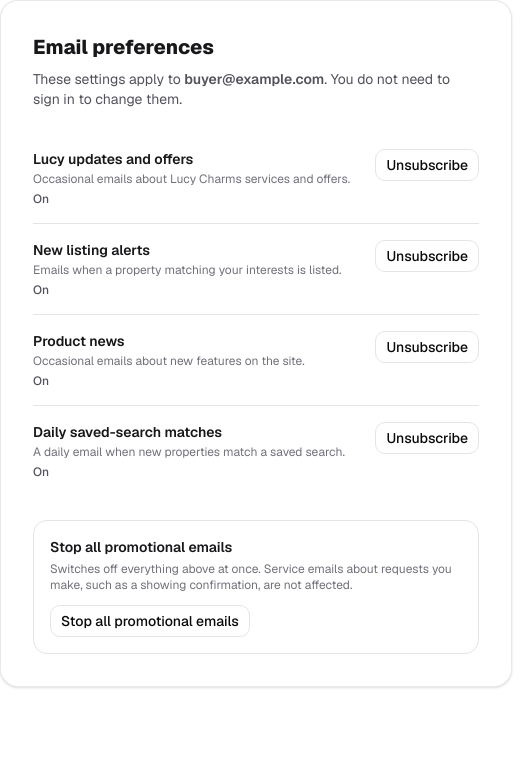
Test case: a failed change keeps the page usable and reports the error
Expected: the heading "Email preferences" is shown, left=33, top=34, right=214, bottom=60
Click the button "Unsubscribe" in the row of "Lucy updates and offers". click: (427, 165)
box: left=375, top=149, right=479, bottom=181
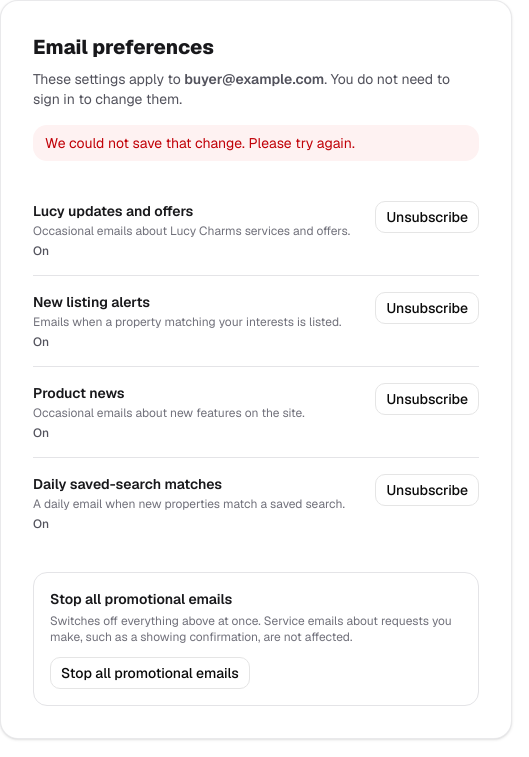
Expected: the number of buttons "Unsubscribe" is 4, left=375, top=201, right=479, bottom=233; left=375, top=292, right=479, bottom=324; left=375, top=383, right=479, bottom=415; left=375, top=474, right=479, bottom=506
Expected: the message "We could not save that change. Please try again." is shown, left=33, top=125, right=479, bottom=161
Expected: the message shows "could not save", left=45, top=134, right=355, bottom=152
